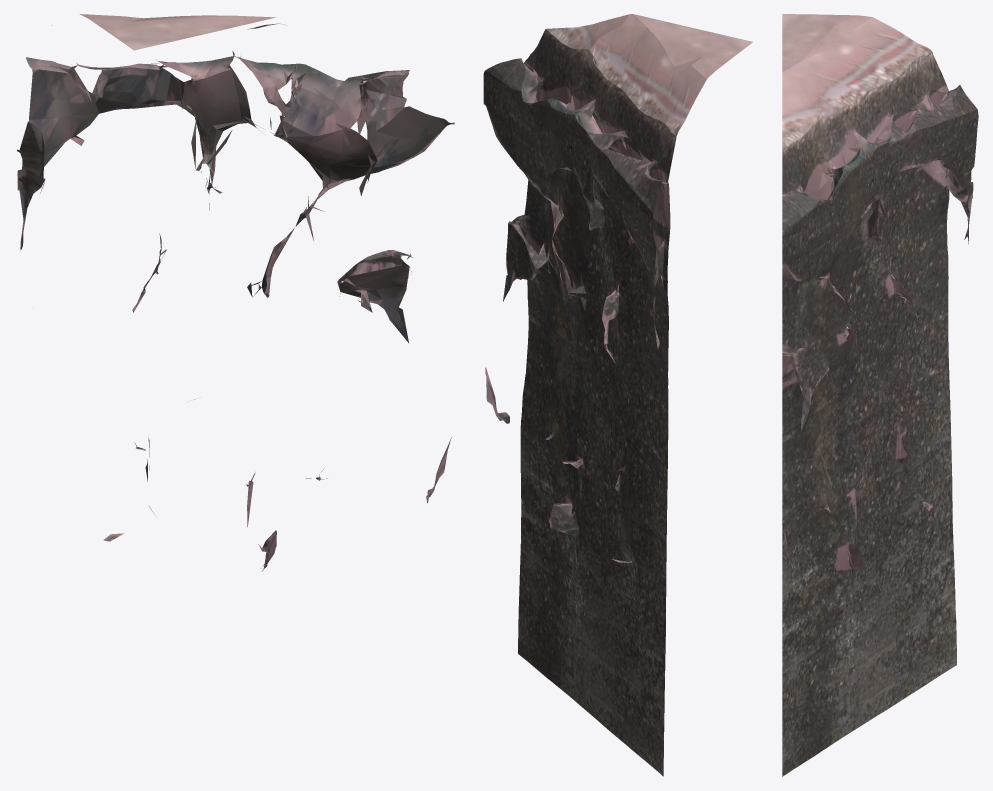
3 views of the same model, side by side, from view 1: azimuth 30°, elevation 25°; view 2: azimuth 150°, elevation 25°; view 3: azimuth 270°, elevation 25° (orthographic). The views are drawn at different scales.
Bounding box in the file's own units: 0.8354 × 1.98 × 0.5406.
1 material, 1 textured.
